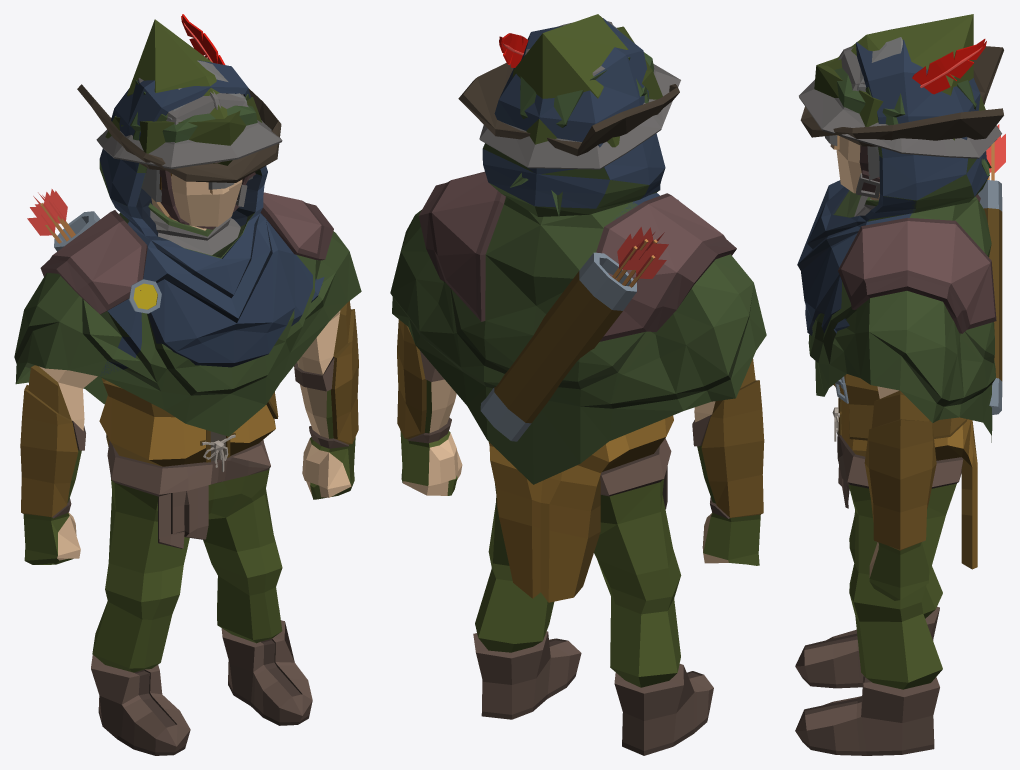
The model's file is HATS_Archer_male.fbx.
3 renders of one model, left to right at view 1: azimuth 30°, elevation 25°; view 2: azimuth 150°, elevation 25°; view 3: azimuth 270°, elevation 25°, orthographic. The views are drawn at different scales.
Parts seen in each view (by area): view 1: archer_03_hats:archerbase, archer_03_hats:shall2_archer, archer_03_hats:shall1_archer, archer_03_hats:archer_hat, archer_03_hats:pothelm_archer, archer_03_hats:hunter_archer, archer_03_hats:chain_helm_archer, archer_03_hats:bandana_archer; view 2: archer_03_hats:archerbase, archer_03_hats:shall1_archer, archer_03_hats:shall2_archer, archer_03_hats:archer_hat, archer_03_hats:hunter_archer, archer_03_hats:pothelm_archer, archer_03_hats:bandana_archer; view 3: archer_03_hats:archerbase, archer_03_hats:shall1_archer, archer_03_hats:shall2_archer, archer_03_hats:archer_hat, archer_03_hats:pothelm_archer, archer_03_hats:hunter_archer, archer_03_hats:bandana_archer, archer_03_hats:chain_helm_archer.
Part boxes in pixels (x1,y1,x2,y2): archer_03_hats:archerbase: [20, 173, 358, 755]; archer_03_hats:shall2_archer: [92, 60, 324, 375]; archer_03_hats:shall1_archer: [14, 94, 361, 436]; archer_03_hats:archer_hat: [105, 14, 262, 165]; archer_03_hats:pothelm_archer: [96, 78, 282, 229]; archer_03_hats:hunter_archer: [77, 84, 281, 182]; archer_03_hats:chain_helm_archer: [141, 60, 253, 255]; archer_03_hats:bandana_archer: [121, 79, 257, 142]; archer_03_hats:archerbase: [397, 227, 764, 755]; archer_03_hats:shall1_archer: [390, 143, 766, 484]; archer_03_hats:shall2_archer: [482, 18, 722, 234]; archer_03_hats:archer_hat: [499, 14, 662, 147]; archer_03_hats:hunter_archer: [458, 63, 679, 156]; archer_03_hats:pothelm_archer: [479, 21, 680, 169]; archer_03_hats:bandana_archer: [510, 52, 654, 216]; archer_03_hats:archerbase: [795, 124, 1005, 755]; archer_03_hats:shall1_archer: [808, 87, 996, 442]; archer_03_hats:shall2_archer: [797, 39, 988, 335]; archer_03_hats:archer_hat: [814, 14, 986, 140]; archer_03_hats:pothelm_archer: [799, 46, 1001, 198]; archer_03_hats:hunter_archer: [800, 46, 1003, 146]; archer_03_hats:bandana_archer: [834, 68, 991, 175]; archer_03_hats:chain_helm_archer: [825, 37, 902, 216].
Bounding box in the file's own units: 495 × 924 × 253.
